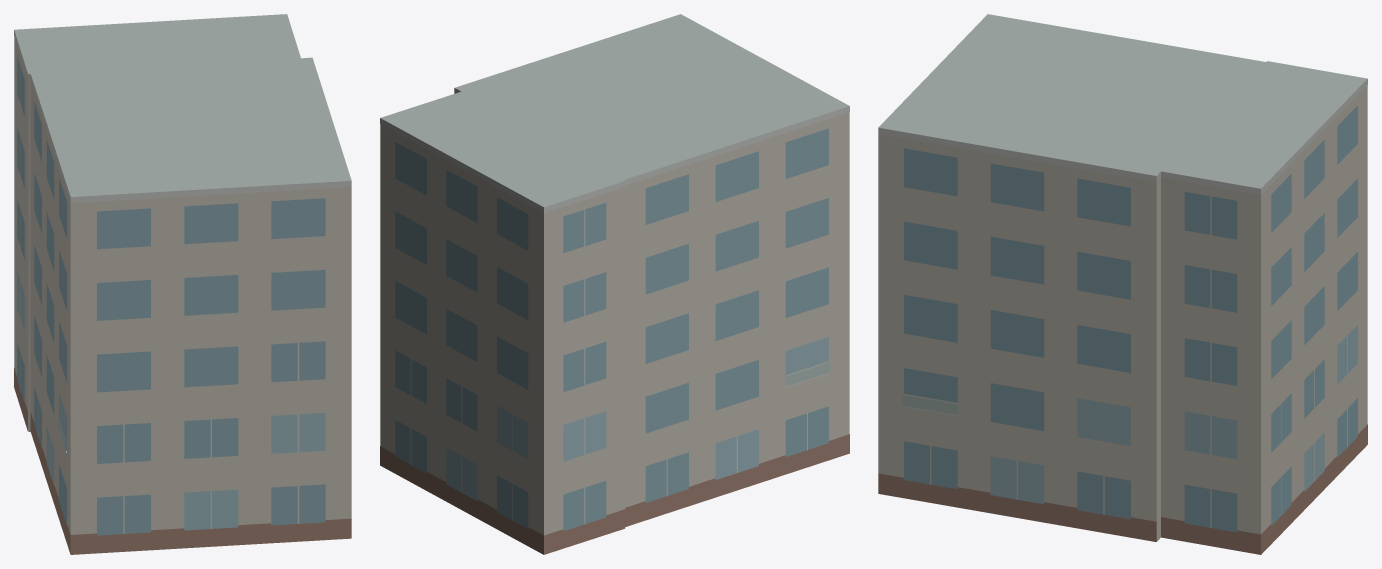
The model's file is survey-upis-32625797.glb.
The picture shows the model from 3 angles, left to right: view 1: azimuth 30°, elevation 25°; view 2: azimuth 150°, elevation 25°; view 3: azimuth 270°, elevation 25°; orthographic projection. The views are drawn at different scales.
Visible parts, largest first — view 1: survey-upis-32625797.tmp; view 2: survey-upis-32625797.tmp; view 3: survey-upis-32625797.tmp.
Part boxes in pixels (x1=…): survey-upis-32625797.tmp: x1=14, y1=14, x2=351, y2=554; survey-upis-32625797.tmp: x1=380, y1=14, x2=849, y2=554; survey-upis-32625797.tmp: x1=878, y1=14, x2=1367, y2=554.
Size of the model in its own units: 14.5 by 14.15 by 17.16.
